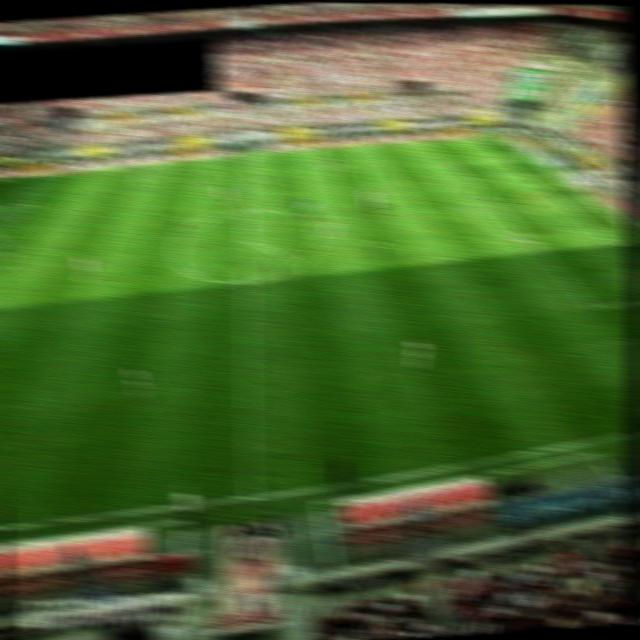bigarea_bottom_inner: (580, 295, 607, 318)
bigarea_top_inner: (23, 195, 47, 211), (439, 157, 464, 172)
bigarea_top_outter: (519, 152, 540, 165)
bottom_arc_area_intersection: (517, 232, 541, 251)
corner: (483, 125, 510, 140)
halfcircle_bottom: (232, 267, 261, 291)
halfcircle_top: (233, 198, 258, 219)
midline_bottom_intersection: (231, 478, 268, 510)
midline_top_intersection: (232, 144, 259, 162)
smallarea_bottom_inner: (600, 231, 626, 252)
smallarea_top_inner: (527, 176, 553, 193)
smallarea_top_outter: (556, 177, 577, 189)
top_arc_area_intersection: (470, 184, 494, 202), (0, 230, 13, 247)
